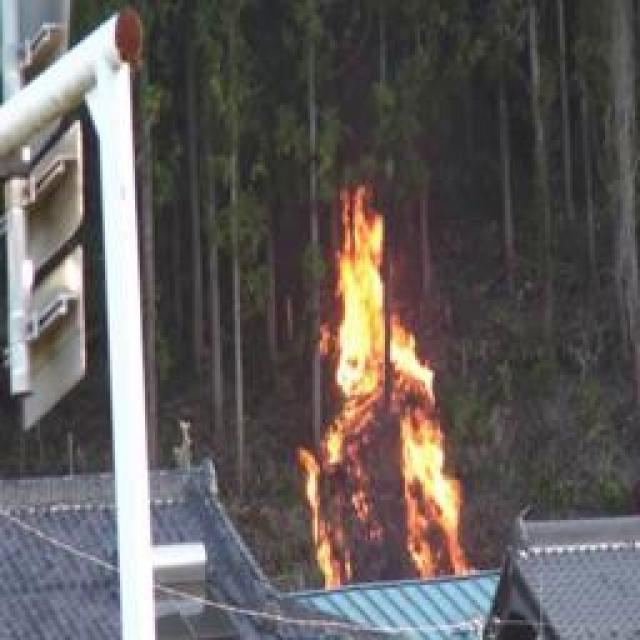Fire: (291, 219, 471, 594)
